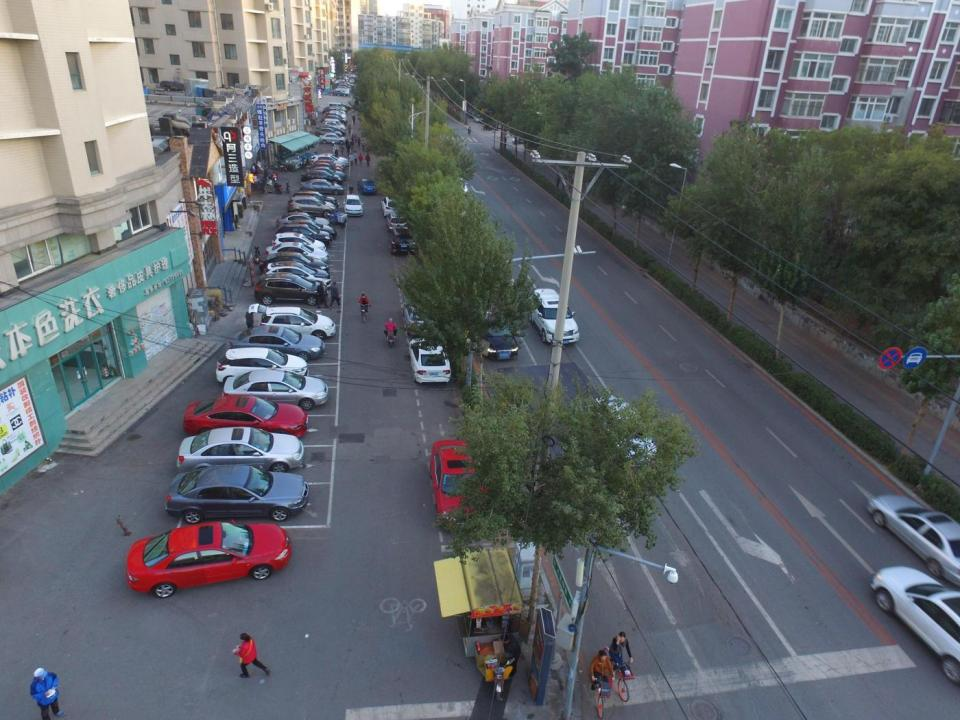car: (121, 519, 294, 598), (869, 566, 959, 684), (864, 491, 960, 585), (165, 464, 310, 525), (425, 437, 496, 533), (176, 426, 304, 478), (586, 391, 665, 472), (182, 395, 309, 442), (222, 369, 329, 412), (215, 346, 309, 388), (248, 306, 336, 346), (526, 286, 580, 348), (230, 329, 326, 362), (468, 300, 520, 360), (253, 274, 328, 305), (408, 336, 455, 385), (264, 242, 330, 270), (260, 264, 330, 290), (401, 293, 442, 334), (274, 221, 334, 249), (260, 251, 329, 274), (280, 219, 336, 245), (269, 232, 326, 256), (438, 159, 470, 197), (287, 194, 337, 218), (273, 212, 331, 232), (290, 189, 339, 211), (387, 225, 419, 257), (300, 179, 344, 197), (305, 166, 346, 184), (300, 172, 344, 188), (380, 194, 408, 217), (306, 162, 345, 178), (311, 155, 345, 173), (385, 210, 409, 234), (312, 152, 348, 168), (344, 193, 364, 218), (309, 160, 345, 173), (314, 123, 345, 136), (320, 132, 346, 146), (320, 121, 346, 135), (358, 178, 379, 195), (314, 128, 342, 140), (319, 126, 345, 138), (322, 119, 346, 132), (511, 133, 538, 143), (332, 91, 350, 96)
van: (328, 103, 348, 112)
